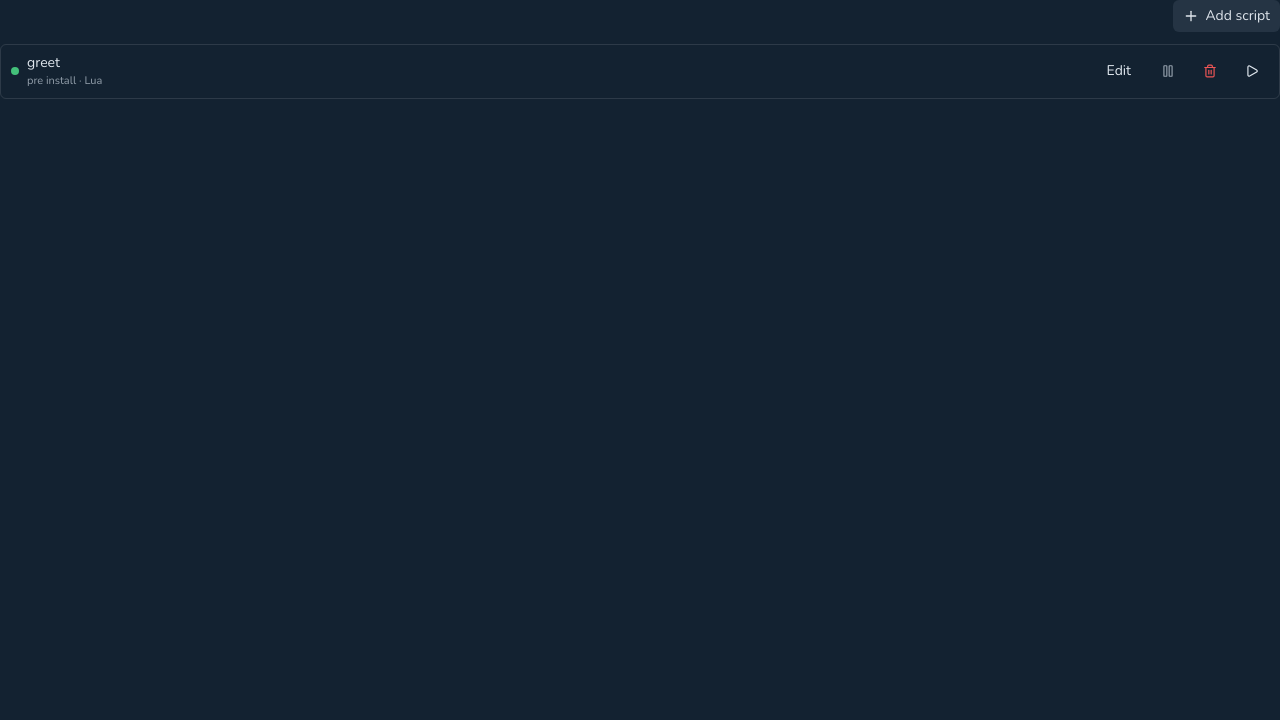
Scenario: ModHooksEditor › opens the console with the editor
Click the button "Edit" at (1119, 71), box [1095,55,1143,87]
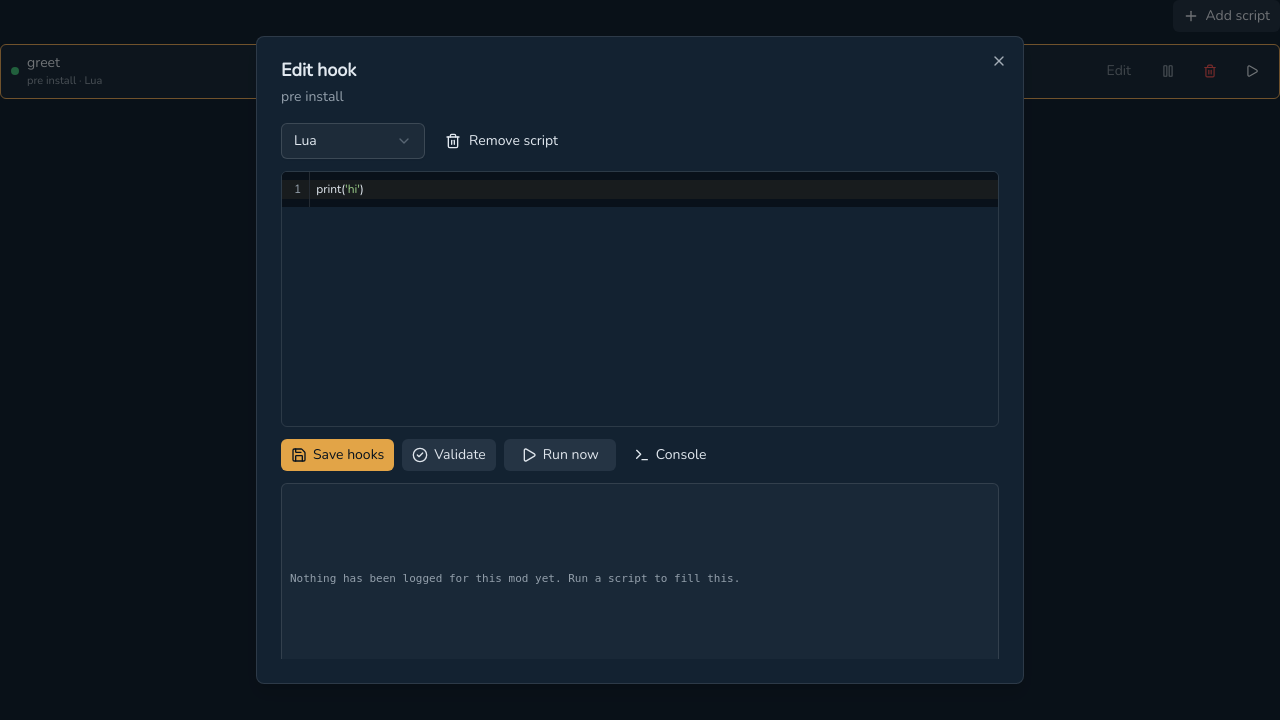
Expected: the text "Nothing has been logged for this mod yet. Run a script to fill this." is shown, [290,570,740,588]
